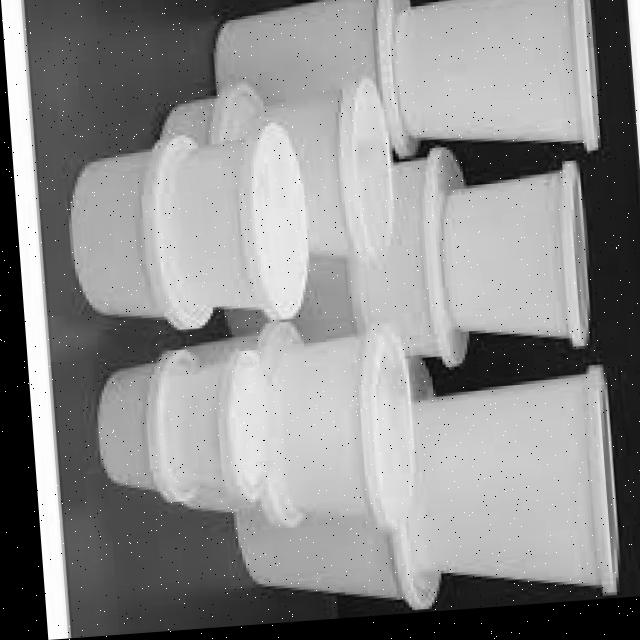disposable: (256, 314, 436, 557), (157, 109, 331, 355)
